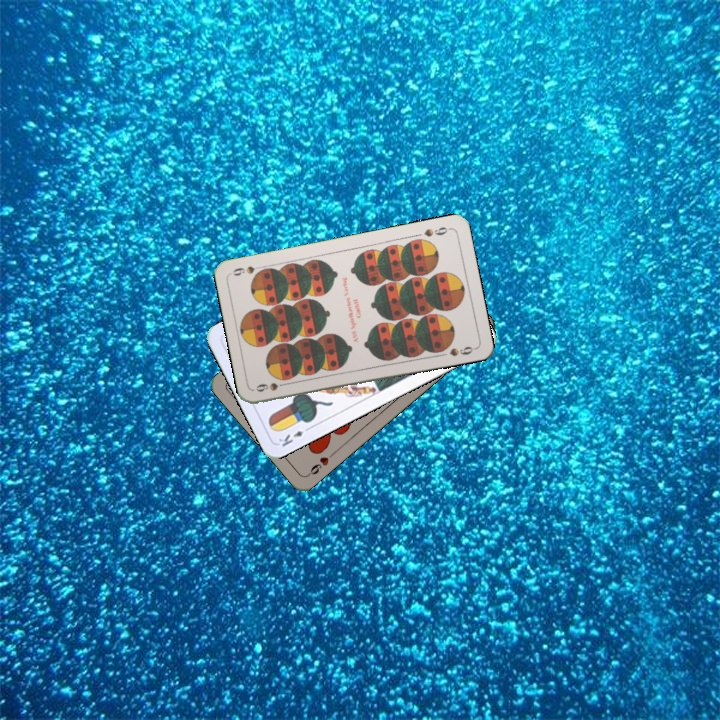EK: (274, 422, 314, 449)
H9: (303, 448, 337, 478)
S9: (252, 378, 292, 394), (420, 223, 454, 239)
